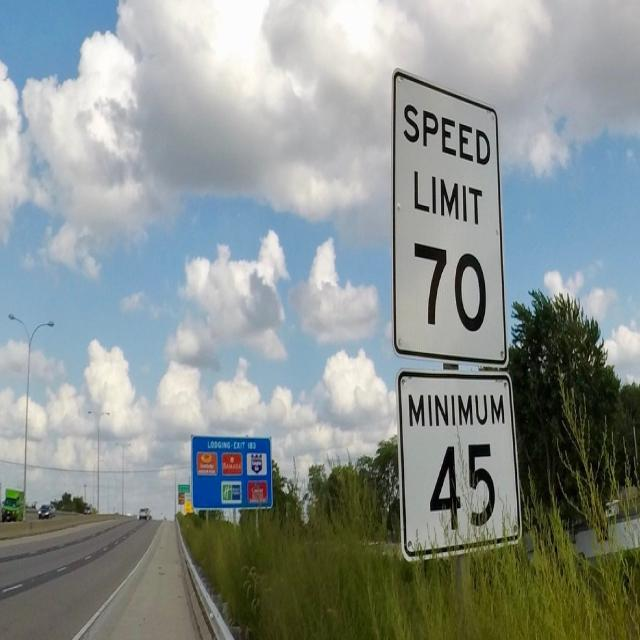speedLimit70: (400, 90, 498, 352)
